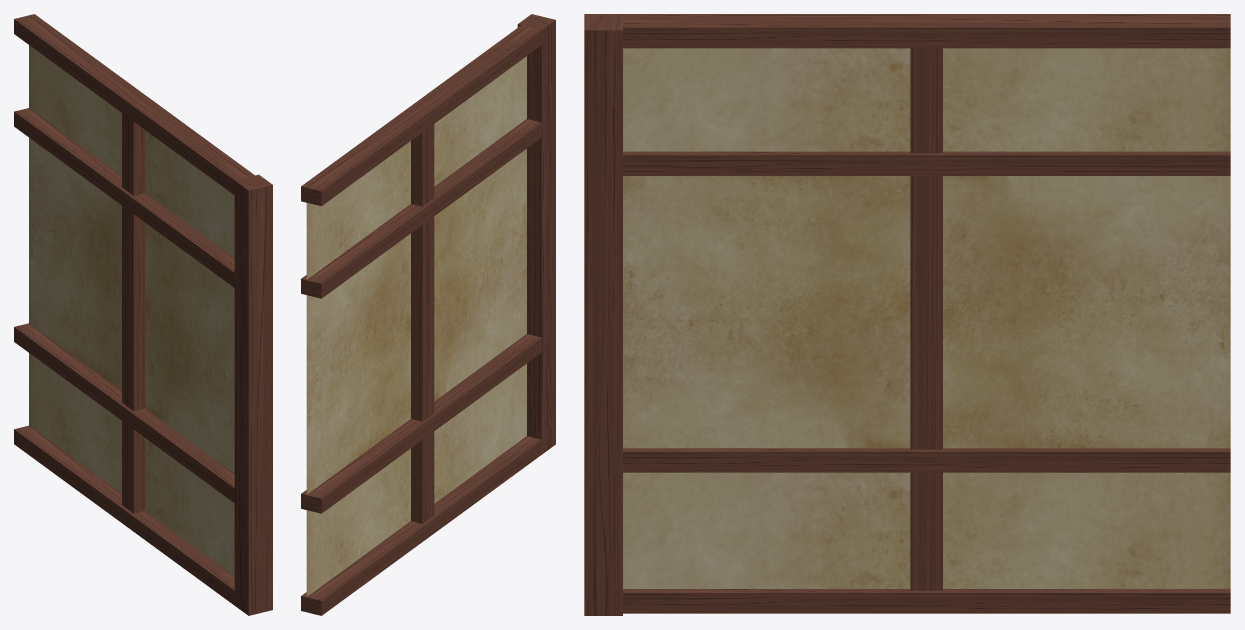
The model's file is SM_wall.fbx.
The picture shows the model from 3 angles, left to right: view 1: azimuth 30°, elevation 25°; view 2: azimuth 150°, elevation 25°; view 3: azimuth 270°, elevation 25°; orthographic projection. The views are drawn at different scales.
Visible parts, largest first — view 1: SM_wall; view 2: SM_wall; view 3: SM_wall.
Boxes of the visible parts, x1,y1,x2,y2 form: SM_wall: [14, 14, 272, 615]; SM_wall: [301, 14, 555, 615]; SM_wall: [584, 14, 1230, 615].
Bounding box in the file's own units: 1787 × 30000 × 30000.
